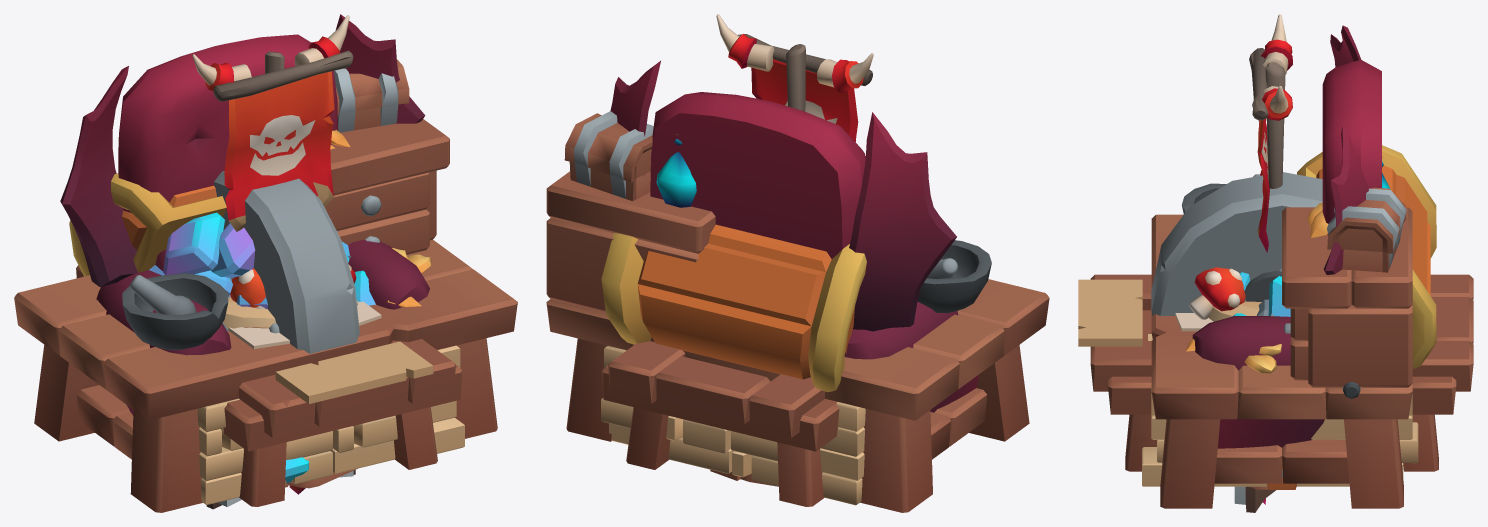
Rendered from kit_items2.glb.
3 views of the same model, side by side, from view 1: azimuth 30°, elevation 25°; view 2: azimuth 150°, elevation 25°; view 3: azimuth 270°, elevation 25° (orthographic). The views are drawn at different scales.
Parts seen in each view (by area): view 1: Potionstation_decorated, Vampire_Throne, grindstone, Orc_Banner, grindstone_wheel, Gems_Chest, Wood_Planks_Stack_Medium, Orc_Wardrum; view 2: Potionstation_decorated, Vampire_Throne, Gems_Chest, grindstone, Wood_Planks_Stack_Medium, Orc_Banner; view 3: Potionstation_decorated, grindstone, Vampire_Throne, grindstone_wheel, Gems_Chest, Orc_Banner, Wood_Planks_Stack_Medium, journal_open, Orc_Wardrum.
Boxes of the visible parts, <box> form: Potionstation_decorated: <box>14,59,517,512</box>; Vampire_Throne: <box>60,14,429,415</box>; grindstone: <box>76,265,462,506</box>; Orc_Banner: <box>192,15,357,488</box>; grindstone_wheel: <box>214,171,359,353</box>; Gems_Chest: <box>69,173,375,483</box>; Wood_Planks_Stack_Medium: <box>197,345,464,505</box>; Orc_Wardrum: <box>223,297,279,333</box>; Potionstation_decorated: <box>546,111,1049,512</box>; Vampire_Throne: <box>610,60,978,412</box>; Gems_Chest: <box>601,224,866,392</box>; grindstone: <box>601,341,839,506</box>; Wood_Planks_Stack_Medium: <box>601,346,865,505</box>; Orc_Banner: <box>710,14,873,486</box>; Potionstation_decorated: <box>1151,156,1412,508</box>; grindstone: <box>1078,274,1473,471</box>; Vampire_Throne: <box>1192,25,1381,448</box>; grindstone_wheel: <box>1151,172,1361,398</box>; Gems_Chest: <box>1232,145,1436,369</box>; Orc_Banner: <box>1249,14,1292,489</box>; Wood_Planks_Stack_Medium: <box>1142,334,1418,489</box>; journal_open: <box>1234,486,1275,512</box>; Orc_Wardrum: <box>1208,301,1261,321</box>.
Size of the model in its own units: 2.44 by 2.83 by 2.27.
Materials: 7 (6 with a texture image).
